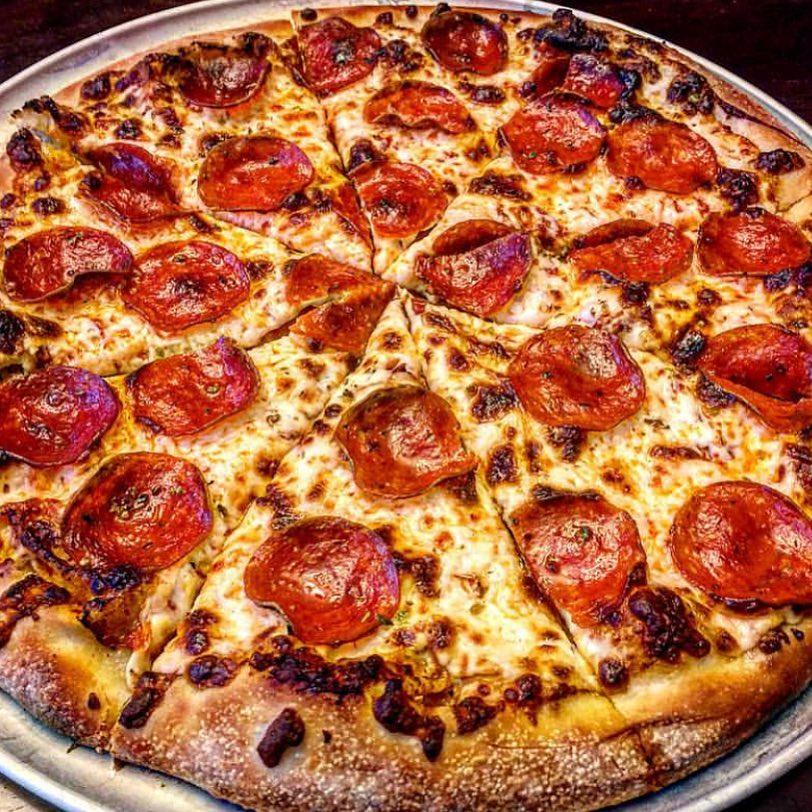Pepperoni: (668, 479, 812, 600), (248, 516, 397, 628), (73, 455, 205, 568), (512, 483, 633, 603), (336, 385, 464, 488), (509, 330, 643, 425), (280, 245, 391, 354), (125, 340, 257, 429), (700, 330, 812, 431), (2, 365, 103, 465), (16, 219, 126, 310), (202, 132, 314, 213), (562, 208, 689, 278), (129, 243, 238, 321), (339, 162, 442, 235), (505, 99, 604, 174), (76, 138, 173, 213), (368, 78, 475, 144), (428, 225, 521, 300), (619, 118, 710, 191), (702, 213, 801, 273), (290, 20, 381, 84), (429, 13, 505, 73), (185, 48, 266, 100)
Pizza: (2, 3, 812, 809)
